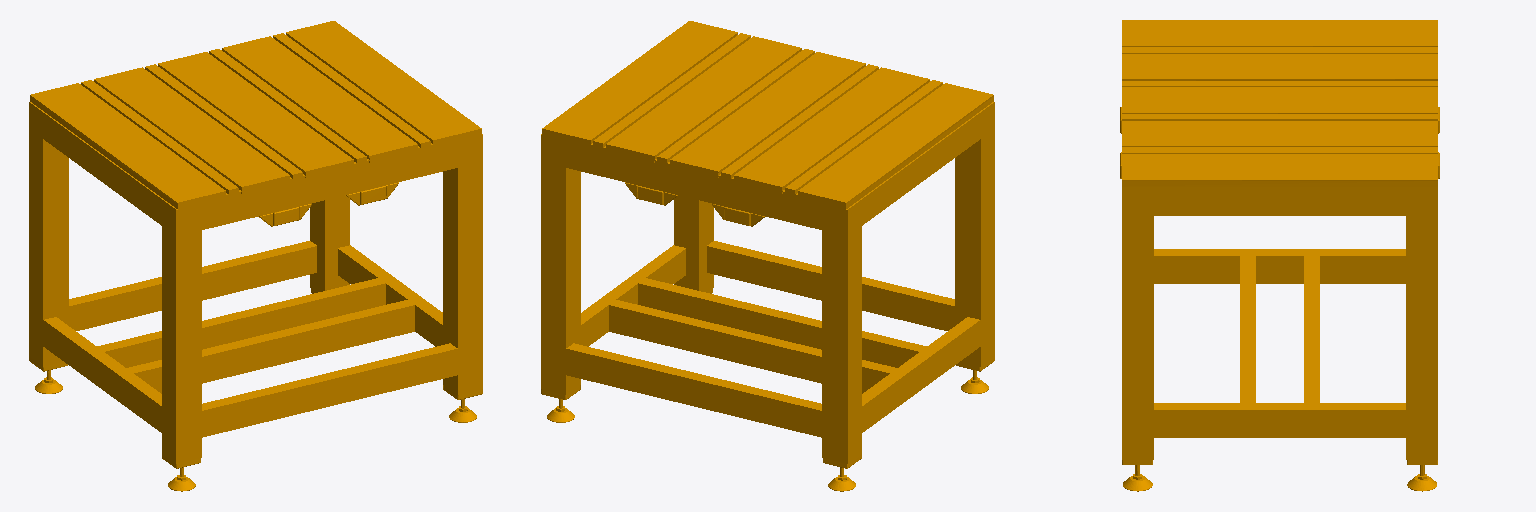
URDF robot description (table):
<?xml version="1.0" ?>
<robot name="table">
<link name="table_base">
    <visual>
      <origin rpy="0 0 0" xyz="0 0 0"/>
      <geometry>
        <mesh filename="package://vr_program_synthesis/meshes/item/table_rescaled.stl"/>
      </geometry>
    </visual>
    <collision>
      <origin rpy="0 0 0" xyz="0 0 0"/>
      <geometry>
        <mesh filename="package://vr_program_synthesis/meshes/item/table_rescaled.stl"/>
      </geometry>
    </collision>
    <inertial>
        <origin rpy="0 0 0" xyz="0 0 0"/>
        <mass value="100"/>
        <inertia ixx="1" ixy="0" ixz="0" iyy="1" iyz="0" izz="1"/>
    </inertial>
    <collision_margin value="0.001"/>
</link>
</robot>

--- What the picture shows (computed from the rendered views, not written in the file) ---
3 views of the same robot in one strip: view 1: azimuth 30°, elevation 25°; view 2: azimuth 150°, elevation 25°; view 3: azimuth 270°, elevation 25° (orthographic).
Model table with 1 links and 0 joints (none), rooted at table_base, posed all joints at 0.
Links seen in each view (by area): view 1: table_base; view 2: table_base; view 3: table_base.
Boxes of the visible links, x1,y1,x2,y2 form: table_base: (29,21,482,491); table_base: (541,21,994,491); table_base: (1120,20,1439,491).
Bounding box of the posed robot: 0.9773 × 0.8224 × 0.8857 m (x, y, z).
Meshes: 1 distinct files referenced, 1 mesh visuals loaded (1 binary STL).